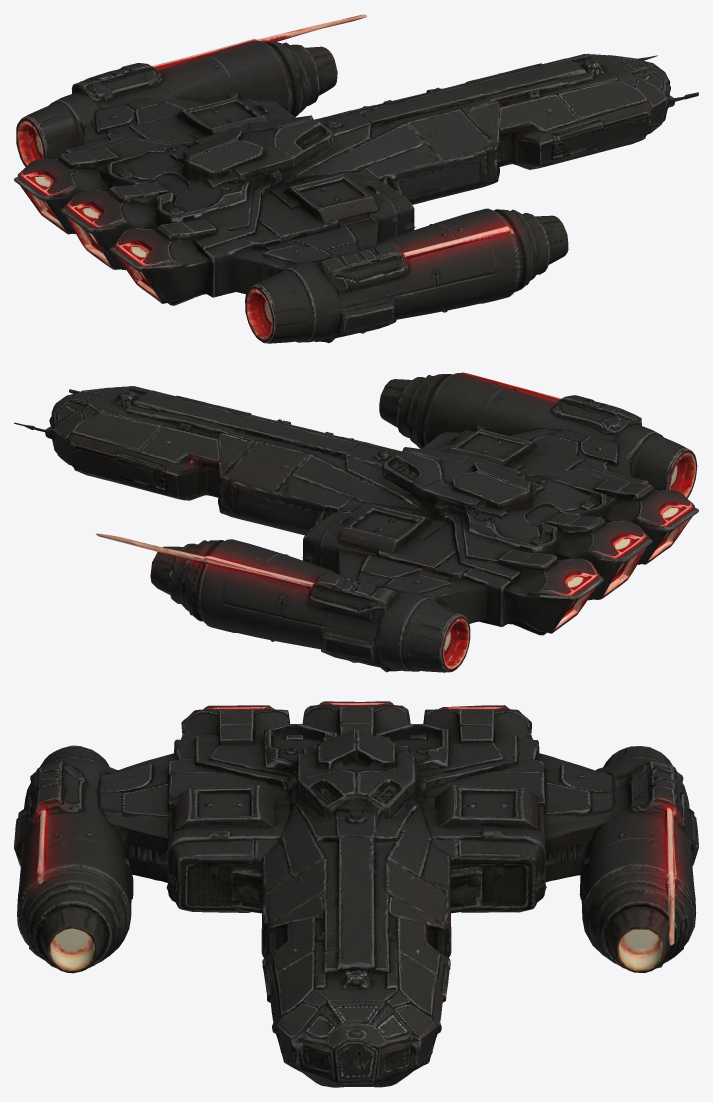
The model's file is Nave2.glb.
3 renders of one model, top to bottom at view 1: azimuth 30°, elevation 25°; view 2: azimuth 150°, elevation 25°; view 3: azimuth 270°, elevation 25°, orthographic. The views are drawn at different scales.
Parts seen in each view (by area): view 1: tripo_node_58777586-e5e3-436d-86a5-a3661b98cc63; view 2: tripo_node_58777586-e5e3-436d-86a5-a3661b98cc63; view 3: tripo_node_58777586-e5e3-436d-86a5-a3661b98cc63.
Part boxes in pixels (bbox=[...]): tripo_node_58777586-e5e3-436d-86a5-a3661b98cc63: bbox=[14, 14, 698, 343]; tripo_node_58777586-e5e3-436d-86a5-a3661b98cc63: bbox=[14, 372, 698, 672]; tripo_node_58777586-e5e3-436d-86a5-a3661b98cc63: bbox=[14, 701, 698, 1087].
Size of the model in its own units: 1 by 0.201 by 0.793.
1 material, 1 textured.
